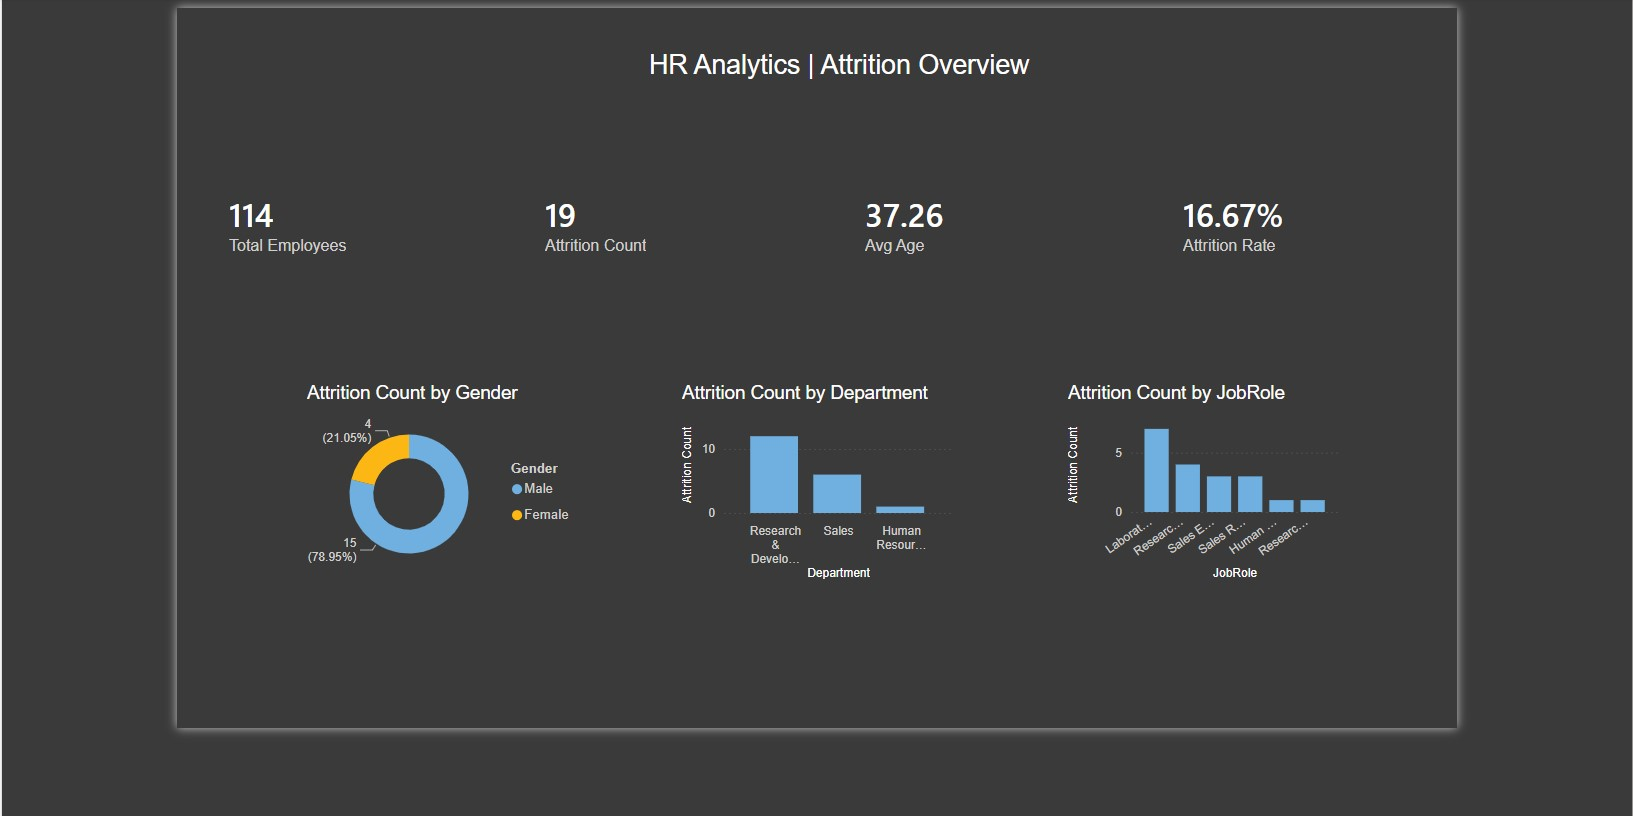

The dashboard page shown, as its layout file describes it:
{"tool":"powerbi","page":{"name":"Attrition Overview","canvas":[1280,720],"ordinal":0},"visuals":[{"type":"cardVisual","fields":{"Data":["IBM HR Analytics Data.Total Employees"]},"box":[22.4,130.3,280.1,167.3],"z":0},{"type":"cardVisual","fields":{"Data":["IBM HR Analytics Data.Attrition Count"]},"box":[337.5,130.3,280.1,167.3],"z":1000},{"type":"cardVisual","fields":{"Data":["IBM HR Analytics Data.Attrition Rate"]},"box":[975.6,130.3,280.1,167.3],"z":2000},{"type":"cardVisual","fields":{"Data":["IBM HR Analytics Data.Avg Age"]},"box":[658.5,130.3,280.1,167.3],"z":3000},{"type":"donutChart","fields":{"Category":["IBM HR Analytics Data.Gender"],"Y":["IBM HR Analytics Data.Attrition Count"]},"box":[125.5,374.5,280.1,202.3],"z":4000},{"type":"clusteredColumnChart","fields":{"Y":["IBM HR Analytics Data.Attrition Count"],"Category":["IBM HR Analytics Data.Department"]},"box":[499.9,374.5,280.1,202.3],"z":5000},{"type":"clusteredColumnChart","fields":{"Category":["IBM HR Analytics Data.JobRole"],"Y":["IBM HR Analytics Data.Attrition Count"]},"box":[886.1,374.5,280.1,202.3],"z":6000},{"type":"textbox","box":[466.9,37,400.7,57.4],"z":6001}]}

Visuals, with their boxes on the page's 1280x720 design canvas (x1, y1, x2, y2). These are canvas units, not pixel positions in the 1633x816 screenshot, which may show the page scaled, cropped or inside an application window:
cardVisual - IBM HR Analytics Data.Total Employees: <region>22, 130, 302, 298</region>
cardVisual - IBM HR Analytics Data.Attrition Count: <region>338, 130, 618, 298</region>
cardVisual - IBM HR Analytics Data.Attrition Rate: <region>976, 130, 1256, 298</region>
cardVisual - IBM HR Analytics Data.Avg Age: <region>658, 130, 939, 298</region>
donutChart - IBM HR Analytics Data.Gender x IBM HR Analytics Data.Attrition Count: <region>126, 374, 406, 577</region>
clusteredColumnChart - IBM HR Analytics Data.Attrition Count x IBM HR Analytics Data.Department: <region>500, 374, 780, 577</region>
clusteredColumnChart - IBM HR Analytics Data.JobRole x IBM HR Analytics Data.Attrition Count: <region>886, 374, 1166, 577</region>
textbox: <region>467, 37, 868, 94</region>
